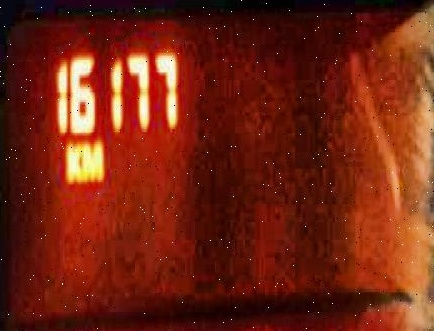1: (108, 55, 122, 133), (53, 57, 67, 135)
6: (67, 51, 94, 133)
7: (125, 51, 150, 131), (153, 49, 176, 129)
X: (81, 138, 102, 180), (63, 137, 81, 184)
